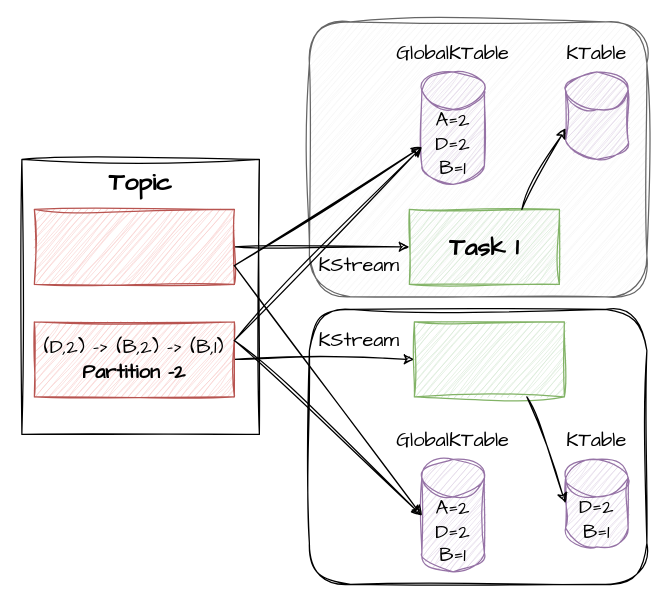
This 669x606 diagram has some shape labels left out. The centre of each missing label's shape, as x and y in pixels:
(A,1) -> (C,2) -> (A,2) Partition -1: (133,246)
A=2 C=2: (596,115)
Task 2: (488,359)
